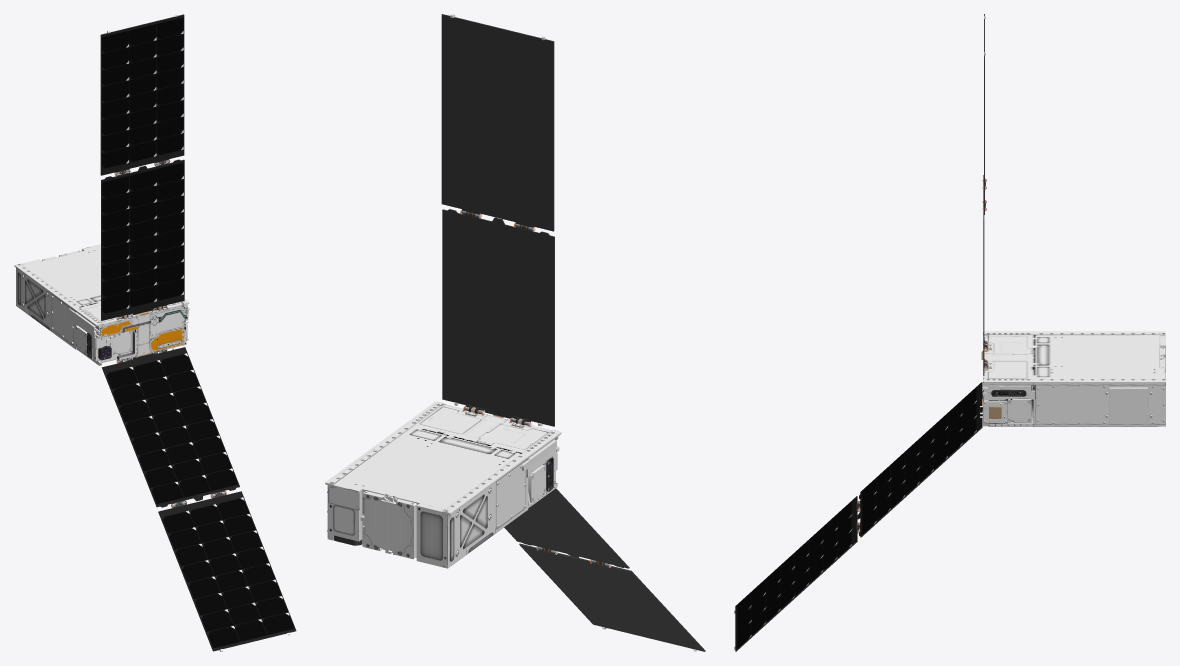
The model's file is prefire.glb.
3 renders of one model, left to right at view 1: azimuth 30°, elevation 25°; view 2: azimuth 150°, elevation 25°; view 3: azimuth 270°, elevation 25°, orthographic. The views are drawn at different scales.
Visible parts, largest first — view 1: BUS1, NoUVs.001, NoUVs.004; view 2: NoUVs.004, BUS1; view 3: BUS1, NoUVs.001, NoUVs.004.
Boxes of the visible parts, x1,y1,x2,y2 form: BUS1: [14, 15, 187, 365]; NoUVs.001: [102, 347, 296, 650]; NoUVs.004: [42, 14, 295, 651]; NoUVs.004: [325, 14, 705, 651]; BUS1: [327, 402, 561, 568]; BUS1: [983, 331, 1165, 426]; NoUVs.001: [735, 382, 982, 650]; NoUVs.004: [734, 14, 1165, 651].
Bounding box in the file's own units: 0.1959 × 1.08 × 0.7077.
Materials: 11 (2 with a texture image).
